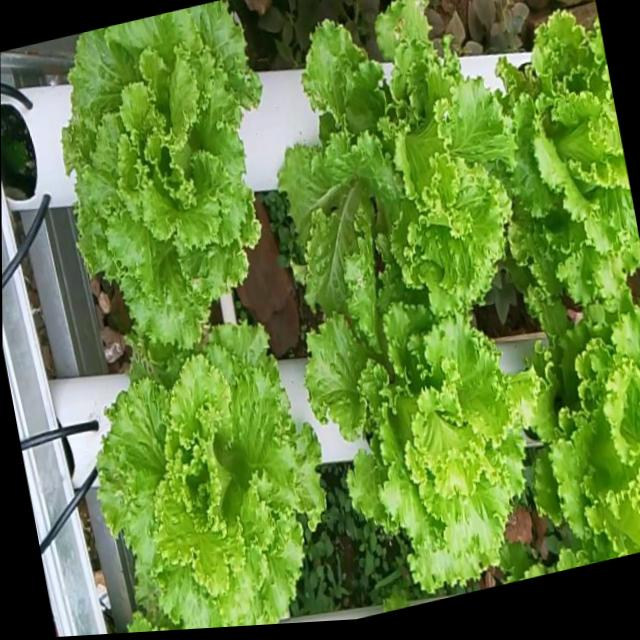Mature: (284, 0, 524, 318), (65, 0, 267, 370), (314, 282, 542, 598), (103, 331, 335, 632), (507, 0, 640, 300), (548, 288, 640, 560)
